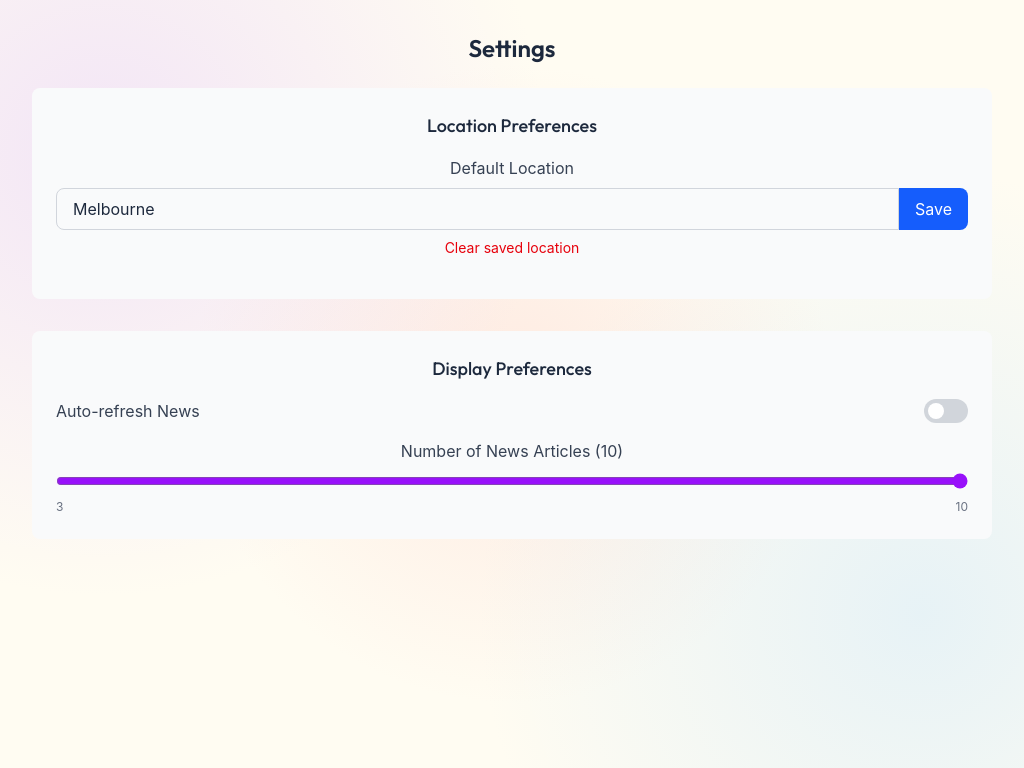
Test: SettingsPage › should clear location when clear button is clicked
Click the button "Clear saved location": (512, 248) top-left (445, 238), bottom-right (579, 258)
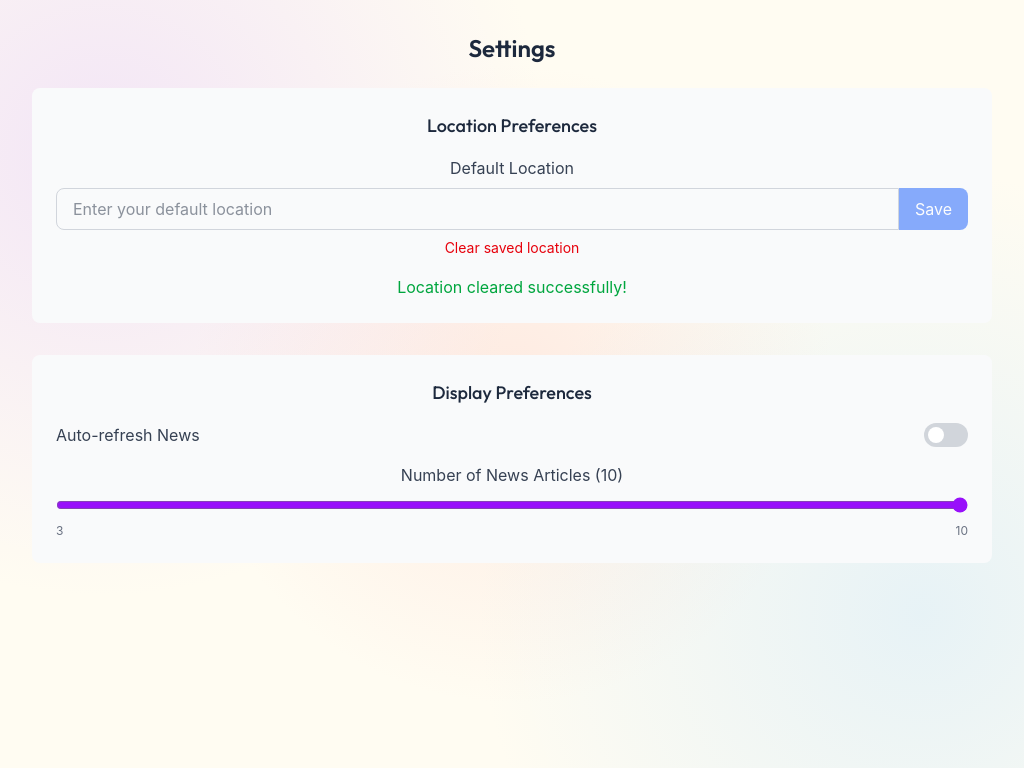
Now the text "Location cleared successfully!" is shown, box top-left (397, 277), bottom-right (627, 297)
